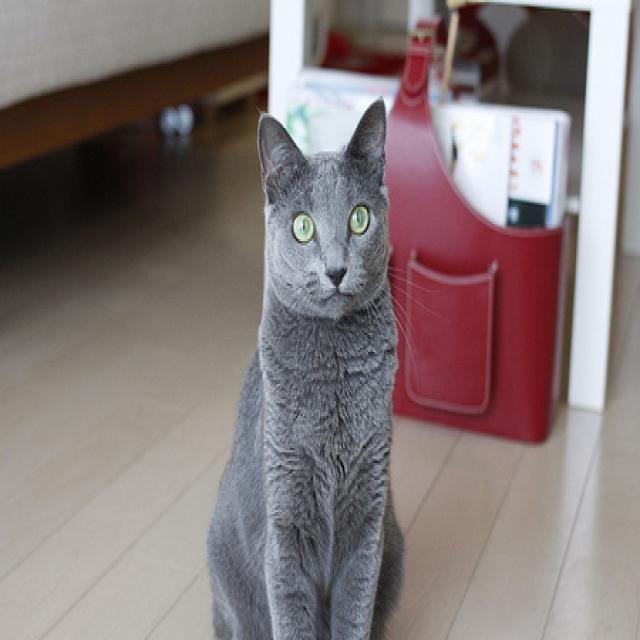Russian Blue: (205, 94, 408, 640)
